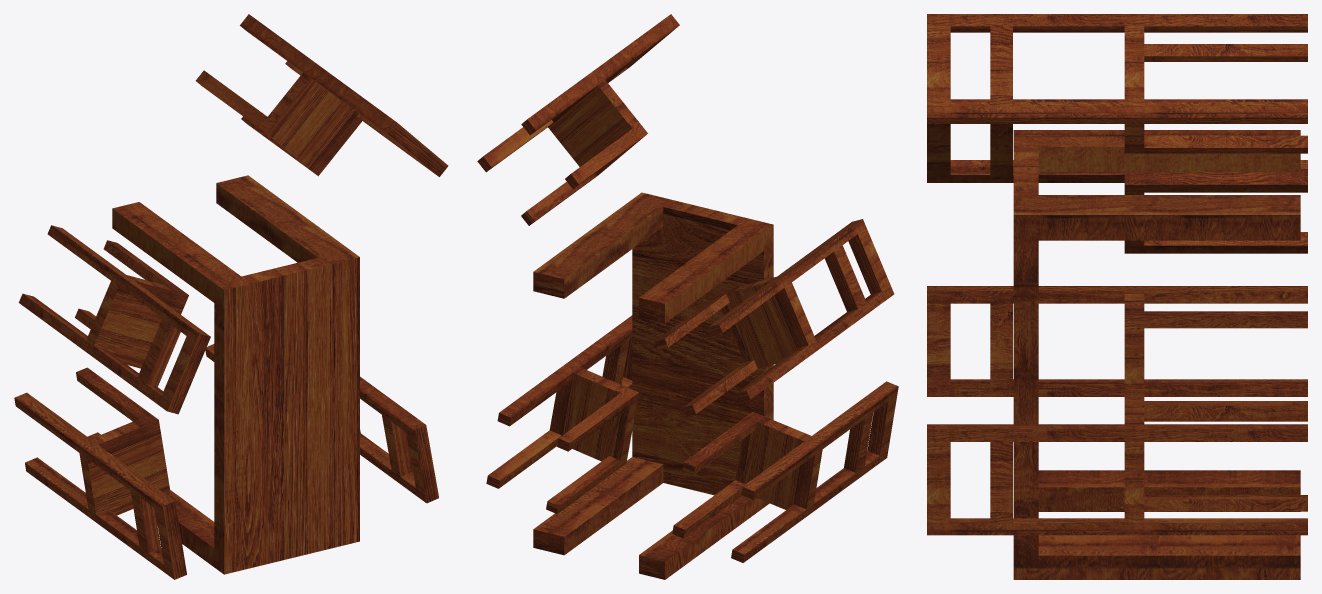
File: table_chairs.obj
3 views of the same model, side by side, from view 1: azimuth 30°, elevation 25°; view 2: azimuth 150°, elevation 25°; view 3: azimuth 270°, elevation 25° (orthographic). The views are drawn at different scales.
Parts seen in each view (by area): view 1: Cube.008_Cube.009, Cube.012_Cube.010, Cube.011_Cube.010, Cube.010, Cube.009_Cube.010; view 2: Cube.008_Cube.009, Cube.012_Cube.010, Cube.011_Cube.010, Cube.009_Cube.010, Cube.010; view 3: Cube.008_Cube.009, Cube.010, Cube.009_Cube.010, Cube.012_Cube.010, Cube.011_Cube.010.
Part boxes in pixels (x1,y1,x2,y2): Cube.008_Cube.009: [112, 175, 359, 574]; Cube.012_Cube.010: [14, 367, 186, 579]; Cube.011_Cube.010: [18, 225, 210, 414]; Cube.010: [195, 14, 448, 176]; Cube.009_Cube.010: [205, 344, 438, 503]; Cube.008_Cube.009: [533, 192, 773, 579]; Cube.012_Cube.010: [672, 381, 898, 562]; Cube.011_Cube.010: [654, 219, 894, 416]; Cube.009_Cube.010: [486, 315, 638, 513]; Cube.010: [477, 14, 679, 225]; Cube.008_Cube.009: [1013, 130, 1300, 579]; Cube.010: [927, 14, 1307, 153]; Cube.009_Cube.010: [927, 401, 1307, 535]; Cube.012_Cube.010: [927, 286, 1307, 421]; Cube.011_Cube.010: [927, 99, 1307, 253].
Bounding box in the file's own units: 0.8419 × 1.25 × 0.7565.
